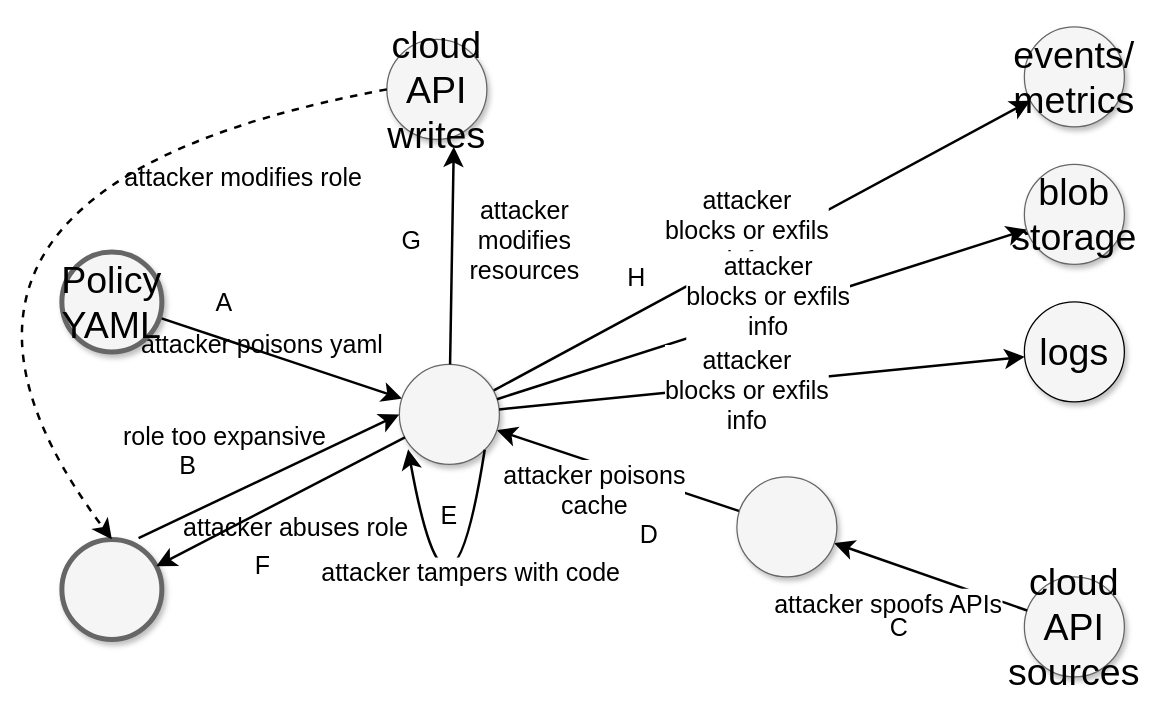
The diagram is 1163 pixels wide and 716 high, and some of its shapes have lost their labels. Here are the shapes that lost their labels. From the top down, the centre of each, then its label:
At pixel 450 415: "python cli or sls".
At pixel 787 528: "client file resource cache".
At pixel 112 590: "IAM policy".
